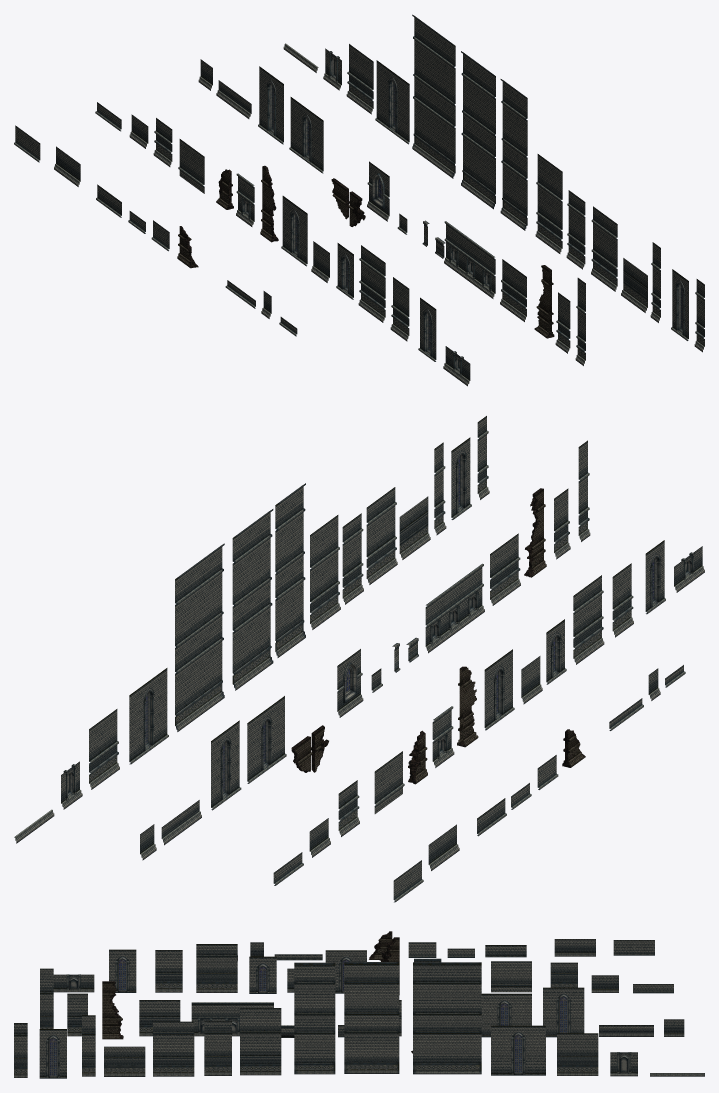
File: EnvMdrMD_Daiseidou_B_Wall_600W500H_B.FBX
3 renders of one model, top to bottom at view 1: azimuth 30°, elevation 25°; view 2: azimuth 150°, elevation 25°; view 3: azimuth 270°, elevation 25°, orthographic. The views are drawn at different scales.
Visible parts, largest first — view 1: EnvMdrMD_Daiseidou_B_Wall_D_1000W1800H, EnvMdrMD_Daiseidou_B_Wall_D_800W1800H, EnvMdrMD_Daiseidou_B_Wall_D_600W1800H, EnvMdrMD_Daiseidou_B_Wall_A_400W550H_Spline, EnvMdrMD_Daiseidou_B_Wall_Room_600W1100H_A, EnvMdrMD_Daiseidou_B_Wall_Window_A_8W8H_Loop, EnvMdrMD_Daiseidou_B_Wall_Window_A_8W7H_Loop, EnvMdrMD_Daiseidou_B_Wall_Room_600W900H_A, EnvMdrMD_Daiseidou_B_Wall_Room_600W800H_A, EnvMdrMD_Daiseidou_B_Wall_Window_A_6W8H_Loop, EnvMdrMD_Daiseidou_B_Wall_Window_A_6W7H_Loop, EnvMdrMD_Daiseidou_B_Wall_Room_600W700H_A (+20 smaller); view 2: EnvMdrMD_Daiseidou_B_Wall_D_1000W1800H, EnvMdrMD_Daiseidou_B_Wall_D_800W1800H, EnvMdrMD_Daiseidou_B_Wall_D_600W1800H, EnvMdrMD_Daiseidou_B_Wall_A_400W550H_Spline, EnvMdrMD_Daiseidou_B_Wall_Room_600W1100H_A, EnvMdrMD_Daiseidou_B_Wall_Window_A_8W8H_Loop, EnvMdrMD_Daiseidou_B_Wall_Room_600W900H_A, EnvMdrMD_Daiseidou_B_Wall_Window_A_8W7H_Loop, EnvMdrMD_Daiseidou_B_Wall_Room_600W800H_A, EnvMdrMD_Daiseidou_B_Wall_Window_A_6W8H_Loop, EnvMdrMD_Daiseidou_B_Wall_Room_600W700H_A, EnvMdrMD_Daiseidou_B_Wall_Window_A_6W7H_Loop (+21 smaller); view 3: EnvMdrMD_Daiseidou_B_Wall_D_1000W1800H, EnvMdrMD_Daiseidou_B_Wall_D_800W1800H, EnvMdrMD_Daiseidou_B_Wall_D_600W1800H, EnvMdrMD_Daiseidou_B_Wall_Room_600W1100H_A, EnvMdrMD_Daiseidou_B_Wall_Window_A_8W8H_Loop, EnvMdrMD_Daiseidou_B_Wall_Room_600W900H_A, EnvMdrMD_Daiseidou_B_Wall_Room_600W800H_A, EnvMdrMD_Daiseidou_B_Wall_Window_A_6W8H_Loop, EnvMdrMD_Daiseidou_B_Wall_Room_600W700H_A, EnvMdrMD_Daiseidou_B_Wall_Window_A_8W7H_Loop, EnvMdrMD_Daiseidou_B_Wall_Room_400W900H_A, EnvMdrMD_Daiseidou_B_Wall_A_400W550H_Spline (+28 smaller).
Boxes of the visible parts, box(x1,y1,x2,y2) form: EnvMdrMD_Daiseidou_B_Wall_D_1000W1800H: box(412, 14, 455, 178); EnvMdrMD_Daiseidou_B_Wall_D_800W1800H: box(461, 51, 495, 209); EnvMdrMD_Daiseidou_B_Wall_D_600W1800H: box(500, 79, 527, 230); EnvMdrMD_Daiseidou_B_Wall_A_400W550H_Spline: box(444, 221, 495, 298); EnvMdrMD_Daiseidou_B_Wall_Room_600W1100H_A: box(535, 154, 562, 253); EnvMdrMD_Daiseidou_B_Wall_Window_A_8W8H_Loop: box(375, 60, 409, 144); EnvMdrMD_Daiseidou_B_Wall_Window_A_8W7H_Loop: box(289, 97, 323, 173); EnvMdrMD_Daiseidou_B_Wall_Room_600W900H_A: box(591, 206, 617, 291); EnvMdrMD_Daiseidou_B_Wall_Room_600W800H_A: box(358, 245, 385, 322); EnvMdrMD_Daiseidou_B_Wall_Window_A_6W8H_Loop: box(258, 66, 283, 144); EnvMdrMD_Daiseidou_B_Wall_Window_A_6W7H_Loop: box(281, 196, 307, 266); EnvMdrMD_Daiseidou_B_Wall_Room_600W700H_A: box(346, 44, 373, 114); EnvMdrMD_Daiseidou_B_Wall_D_1000W1800H: box(175, 543, 224, 731); EnvMdrMD_Daiseidou_B_Wall_D_800W1800H: box(232, 509, 273, 690); EnvMdrMD_Daiseidou_B_Wall_D_600W1800H: box(275, 483, 305, 657); EnvMdrMD_Daiseidou_B_Wall_A_400W550H_Spline: box(425, 563, 484, 653); EnvMdrMD_Daiseidou_B_Wall_Room_600W1100H_A: box(310, 515, 340, 629); EnvMdrMD_Daiseidou_B_Wall_Window_A_8W8H_Loop: box(129, 668, 168, 764); EnvMdrMD_Daiseidou_B_Wall_Room_600W900H_A: box(366, 487, 397, 584); EnvMdrMD_Daiseidou_B_Wall_Window_A_8W7H_Loop: box(247, 696, 286, 783); EnvMdrMD_Daiseidou_B_Wall_Room_600W800H_A: box(573, 575, 604, 664); EnvMdrMD_Daiseidou_B_Wall_Window_A_6W8H_Loop: box(211, 720, 241, 810); EnvMdrMD_Daiseidou_B_Wall_Room_600W700H_A: box(89, 709, 119, 789); EnvMdrMD_Daiseidou_B_Wall_Window_A_6W7H_Loop: box(484, 649, 514, 730); EnvMdrMD_Daiseidou_B_Wall_D_1000W1800H: box(413, 962, 481, 1074); EnvMdrMD_Daiseidou_B_Wall_D_800W1800H: box(344, 962, 399, 1073); EnvMdrMD_Daiseidou_B_Wall_D_600W1800H: box(294, 962, 335, 1074); EnvMdrMD_Daiseidou_B_Wall_Room_600W1100H_A: box(240, 1008, 281, 1075); EnvMdrMD_Daiseidou_B_Wall_Window_A_8W8H_Loop: box(491, 1025, 545, 1075); EnvMdrMD_Daiseidou_B_Wall_Room_600W900H_A: box(153, 1021, 194, 1076); EnvMdrMD_Daiseidou_B_Wall_Room_600W800H_A: box(196, 944, 237, 992); EnvMdrMD_Daiseidou_B_Wall_Window_A_6W8H_Loop: box(543, 987, 584, 1037); EnvMdrMD_Daiseidou_B_Wall_Room_600W700H_A: box(557, 1033, 598, 1075); EnvMdrMD_Daiseidou_B_Wall_Window_A_8W7H_Loop: box(481, 993, 531, 1037); EnvMdrMD_Daiseidou_B_Wall_Room_400W900H_A: box(204, 1021, 231, 1075); EnvMdrMD_Daiseidou_B_Wall_A_400W550H_Spline: box(191, 1002, 273, 1036).
Bounding box in the file's own units: 4304 × 2260 × 10070.
